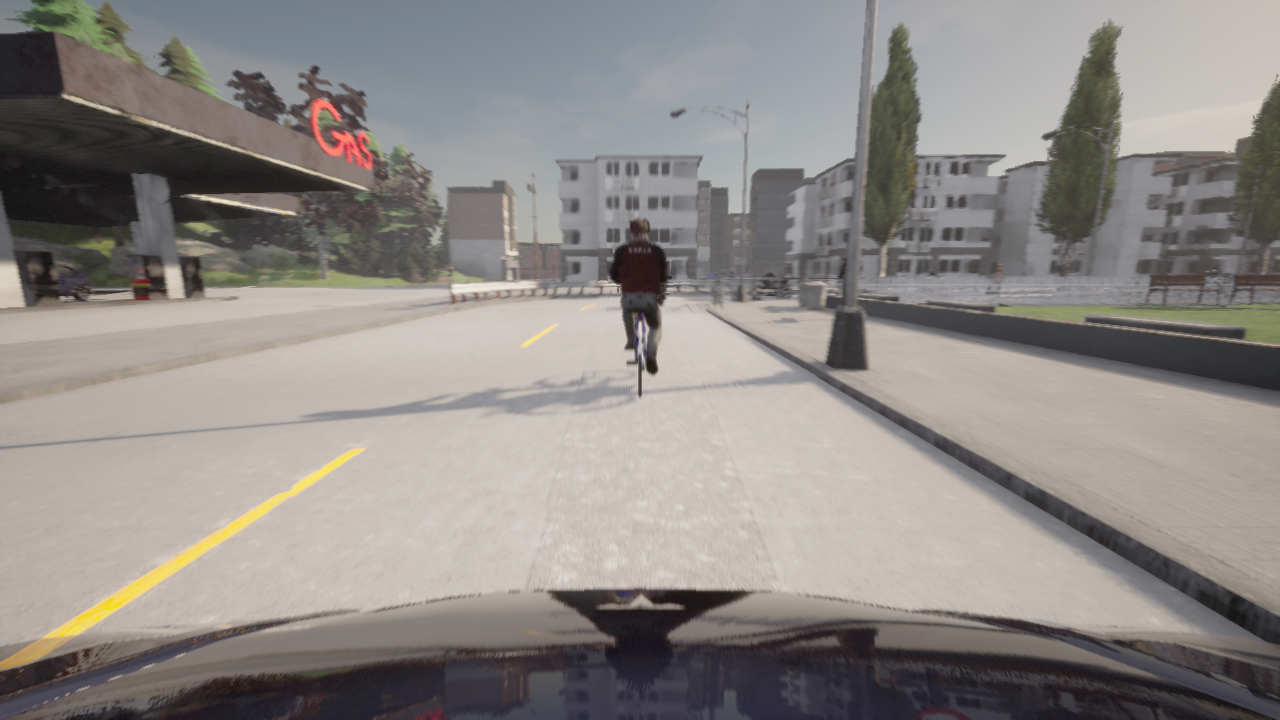cyclist: (0, 588, 1279, 719), (627, 313, 646, 396), (55, 265, 93, 300), (750, 273, 791, 299), (1193, 275, 1237, 297), (917, 273, 947, 297), (656, 277, 671, 305), (703, 270, 736, 279), (733, 272, 757, 279)
pedestrian: (836, 243, 862, 305), (988, 263, 1001, 289)
